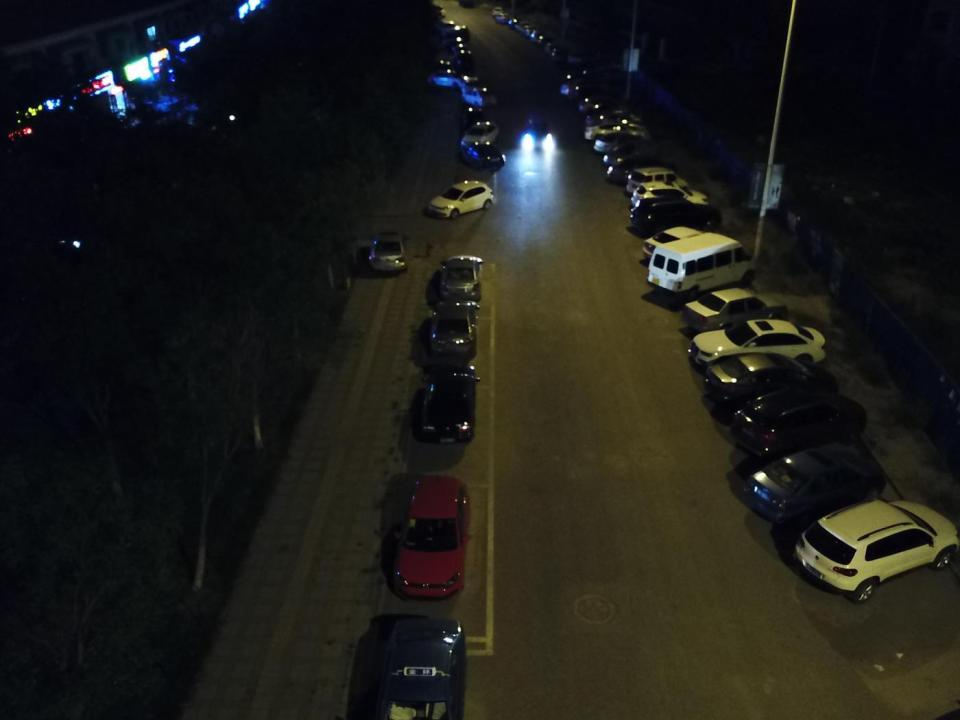car: (788, 497, 960, 604), (735, 446, 889, 531), (391, 472, 474, 600), (371, 613, 469, 720), (732, 384, 870, 457), (702, 353, 839, 414), (687, 320, 828, 379), (685, 284, 792, 336), (416, 360, 482, 444), (630, 195, 722, 236), (428, 294, 479, 361), (424, 176, 496, 218), (629, 180, 710, 216), (644, 226, 712, 263), (432, 253, 486, 294), (368, 226, 411, 274), (625, 167, 692, 196), (608, 156, 678, 182), (584, 121, 650, 145), (519, 112, 560, 148), (584, 108, 643, 133), (461, 140, 506, 172), (593, 132, 654, 154), (602, 140, 659, 163), (460, 120, 500, 148), (570, 80, 618, 102), (579, 94, 631, 114), (562, 74, 610, 95), (461, 86, 498, 107), (462, 106, 493, 129), (455, 71, 480, 90), (432, 57, 454, 77), (449, 26, 473, 42), (446, 34, 468, 50), (544, 42, 566, 57), (448, 43, 470, 58), (442, 19, 460, 37), (551, 47, 570, 63), (457, 51, 476, 67), (494, 13, 514, 25), (536, 34, 554, 47), (507, 17, 528, 28), (531, 30, 548, 43), (516, 21, 534, 32), (490, 5, 505, 18), (521, 24, 538, 35)
van: (644, 231, 760, 298)
